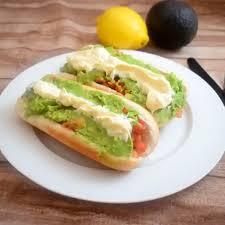Completos: (20, 73, 156, 171)
